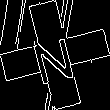N_N: (30, 26, 80, 84)
